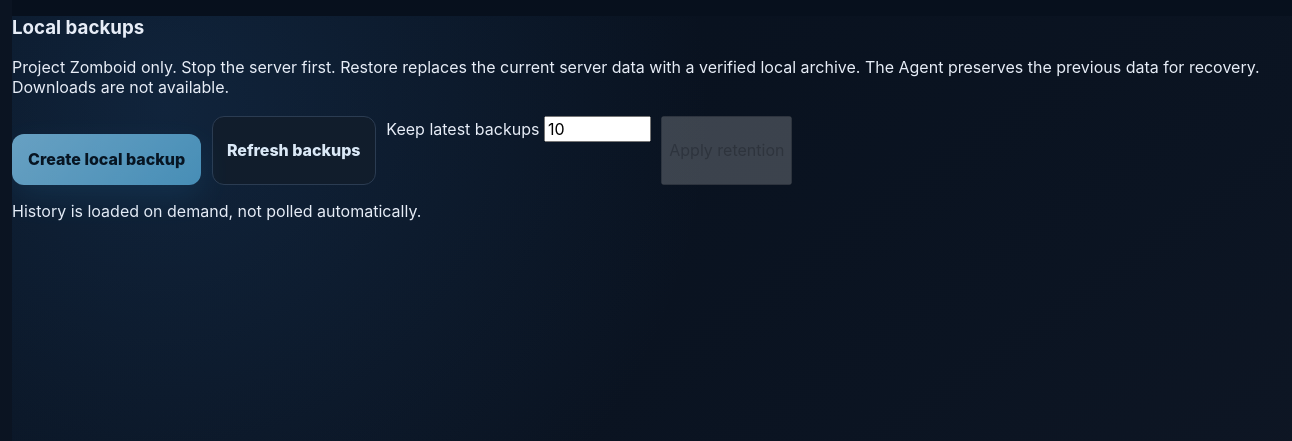
Test: ServerBackups › disables unsafe creation and preserves an actionable fetch error
Check: the button "Create local backup" is disabled, box [12,134,201,185]
Click the button "Refresh backups" at (294, 150), box [212,116,376,185]
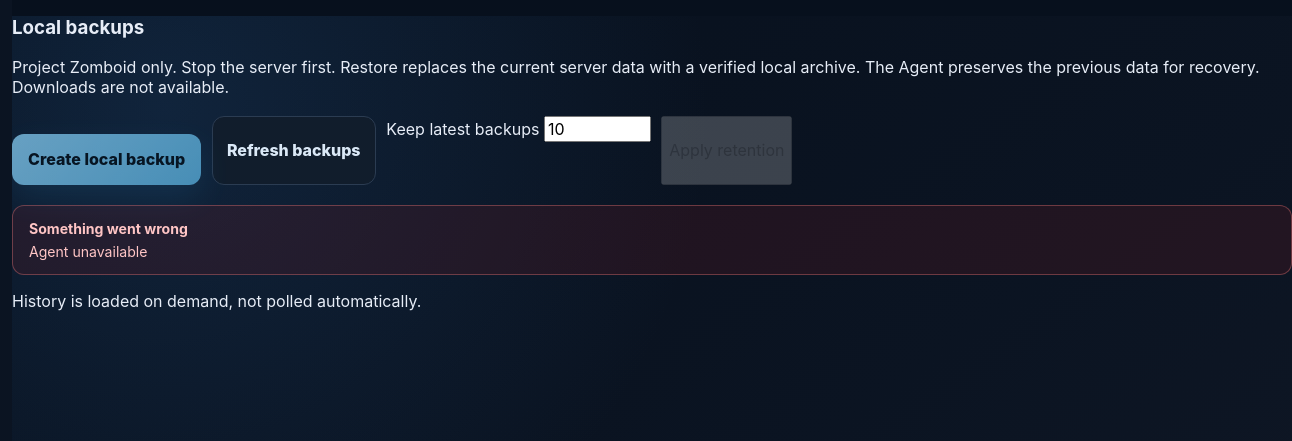
Check: the message shows "Agent unavailable", box [29,243,148,260]
